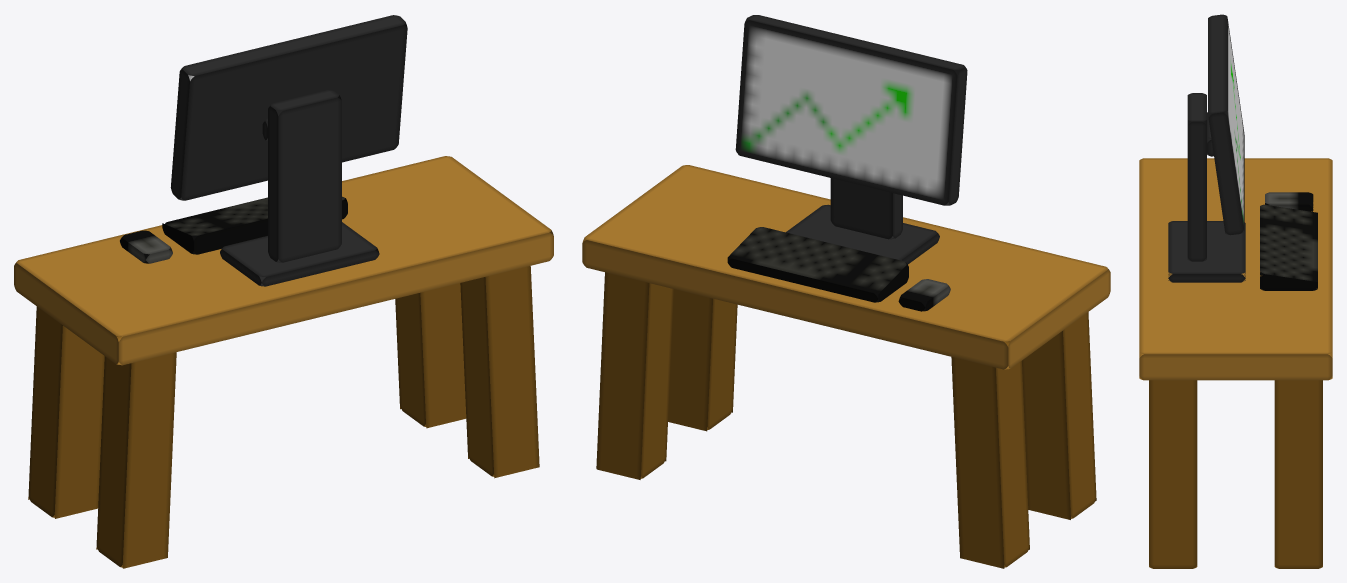
The model's file is desk (1).fbx.
3 views of the same model, side by side, from view 1: azimuth 30°, elevation 25°; view 2: azimuth 150°, elevation 25°; view 3: azimuth 270°, elevation 25° (orthographic). The views are drawn at different scales.
Parts seen in each view (by area): view 1: cuboid, cuboid_1, cuboid_7, cuboid_10, cuboid_8, cuboid_2, cuboid_9, cuboid_4, cuboid_6, cuboid_5; view 2: cuboid, cuboid_1, cuboid_8, cuboid_9, cuboid_7, cuboid_10, cuboid_6, cuboid_4, cuboid_2, cuboid_5; view 3: cuboid, cuboid_9, cuboid_10, cuboid_1, cuboid_6, cuboid_4, cuboid_2, cuboid_5.
Boxes of the visible parts, x1=… form: cuboid: x1=14, y1=156, x2=553, y2=365; cuboid_1: x1=170, y1=15, x2=407, y2=200; cuboid_7: x1=96, y1=336, x2=176, y2=568; cuboid_10: x1=460, y1=266, x2=539, y2=478; cuboid_8: x1=28, y1=306, x2=104, y2=518; cuboid_2: x1=268, y1=90, x2=341, y2=262; cuboid_9: x1=395, y1=283, x2=466, y2=428; cuboid_4: x1=220, y1=222, x2=379, y2=286; cuboid_6: x1=162, y1=196, x2=347, y2=254; cuboid_5: x1=120, y1=230, x2=172, y2=263; cuboid: x1=582, y1=165, x2=1110, y2=369; cuboid_1: x1=735, y1=15, x2=967, y2=205; cuboid_8: x1=951, y1=341, x2=1029, y2=568; cuboid_9: x1=596, y1=272, x2=673, y2=479; cuboid_7: x1=1022, y1=312, x2=1096, y2=519; cuboid_10: x1=668, y1=289, x2=737, y2=431; cuboid_6: x1=727, y1=227, x2=908, y2=302; cuboid_4: x1=786, y1=204, x2=939, y2=264; cuboid_2: x1=830, y1=178, x2=902, y2=239; cuboid_5: x1=898, y1=279, x2=950, y2=311; cuboid: x1=1139, y1=158, x2=1332, y2=380; cuboid_9: x1=1274, y1=380, x2=1322, y2=568; cuboid_10: x1=1149, y1=380, x2=1197, y2=568; cuboid_1: x1=1208, y1=14, x2=1244, y2=235; cuboid_6: x1=1260, y1=204, x2=1317, y2=290; cuboid_4: x1=1168, y1=221, x2=1245, y2=282; cuboid_2: x1=1187, y1=93, x2=1206, y2=261; cuboid_5: x1=1265, y1=192, x2=1313, y2=211.
Size of the model in its own units: 300 by 294 by 125.
Materials: 1 (1 with a texture image).
